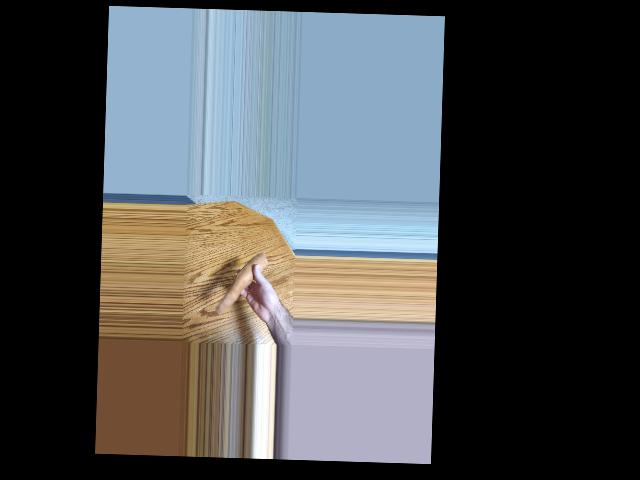sweet_potato: (217, 257, 268, 315)
